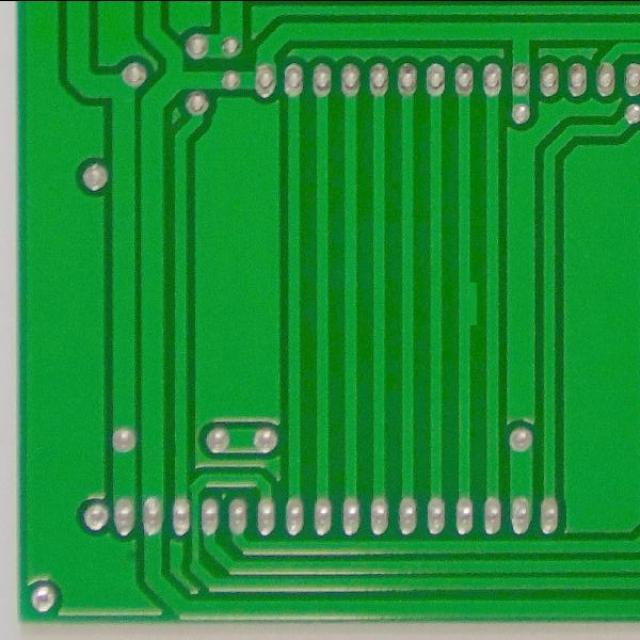Spur: (450, 273, 485, 335)
